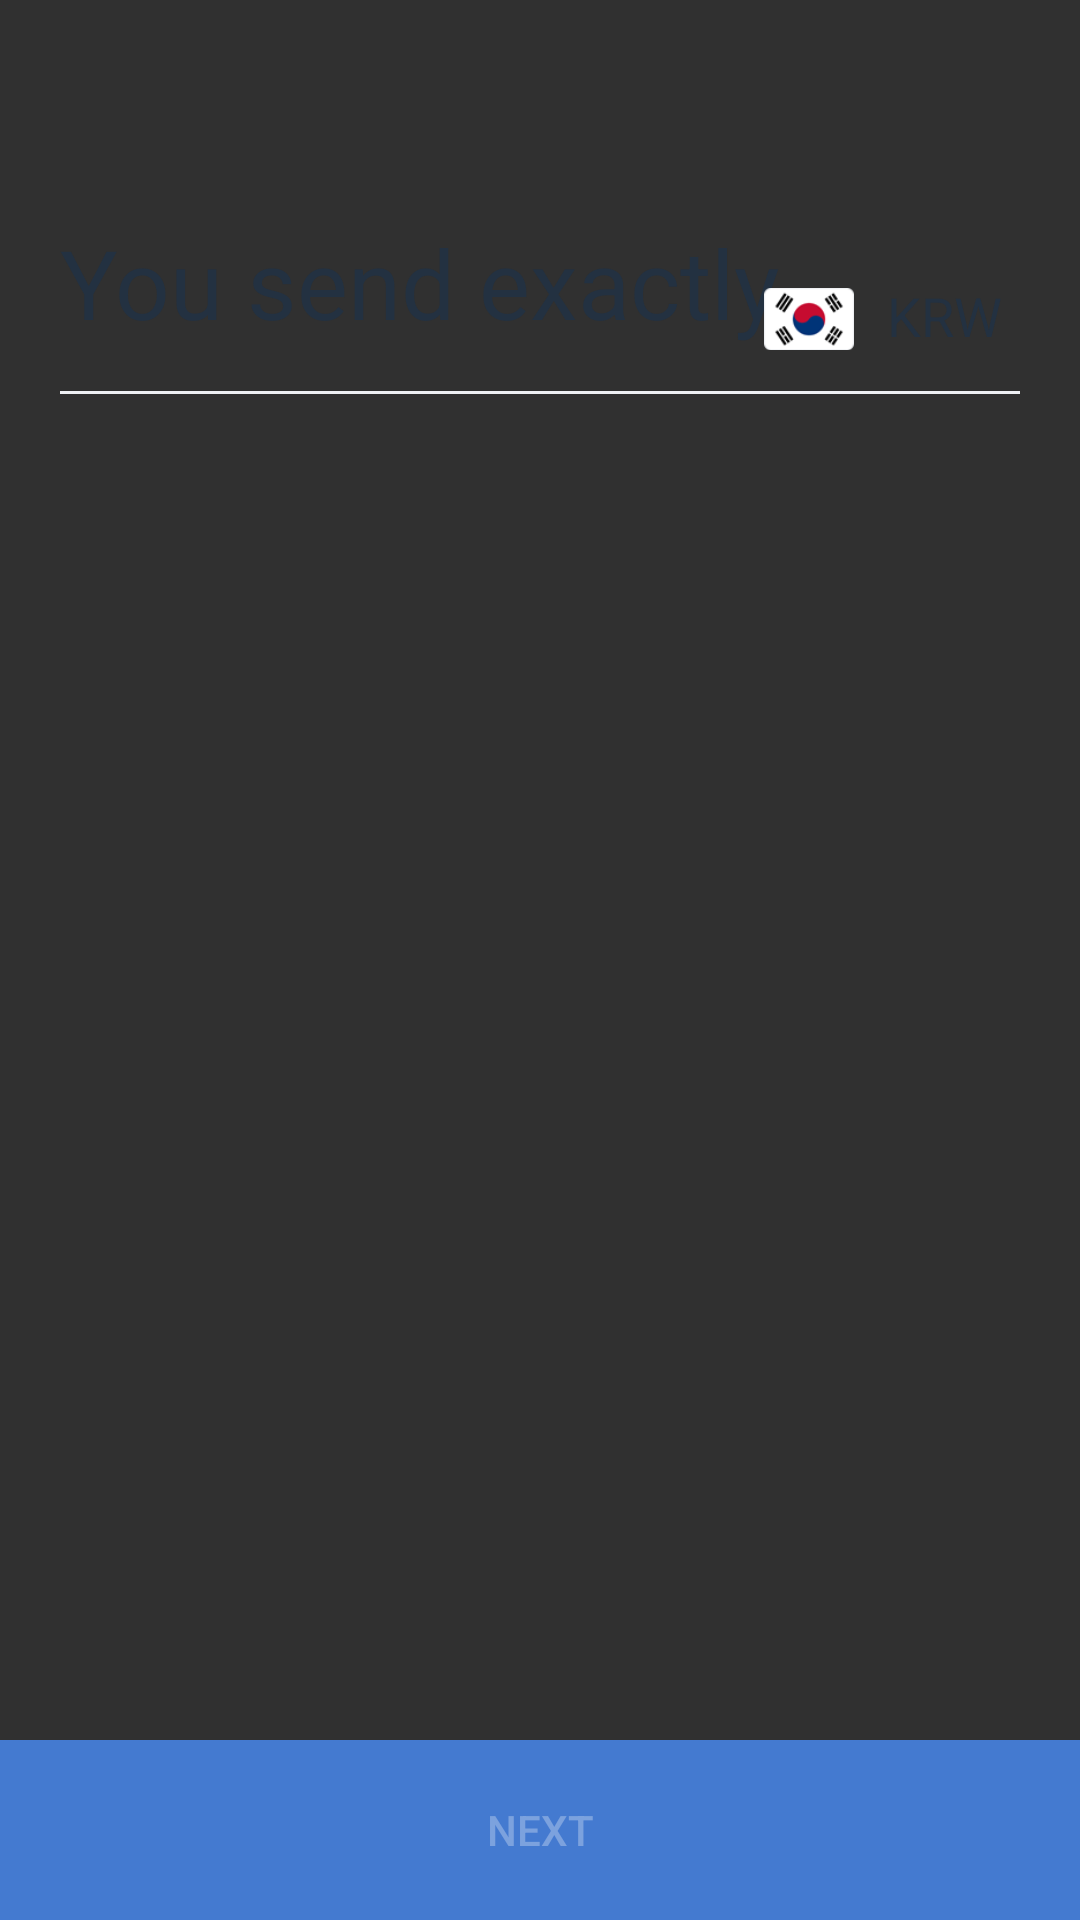

Named icons in this screenshot (1080*1920) and their centers, [x,y]:
flag kor: [809,319]
